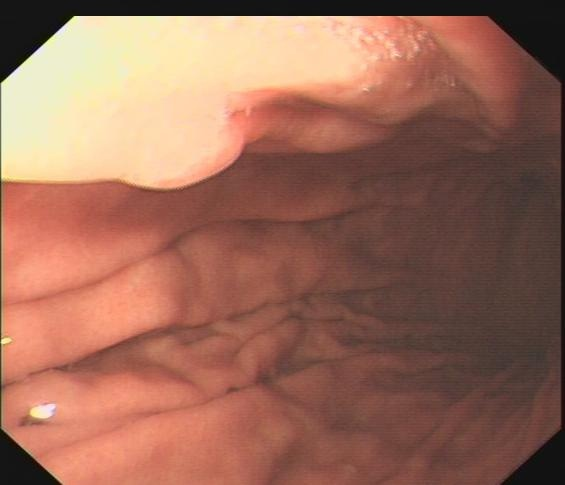Polyp: (116, 125, 248, 191)
